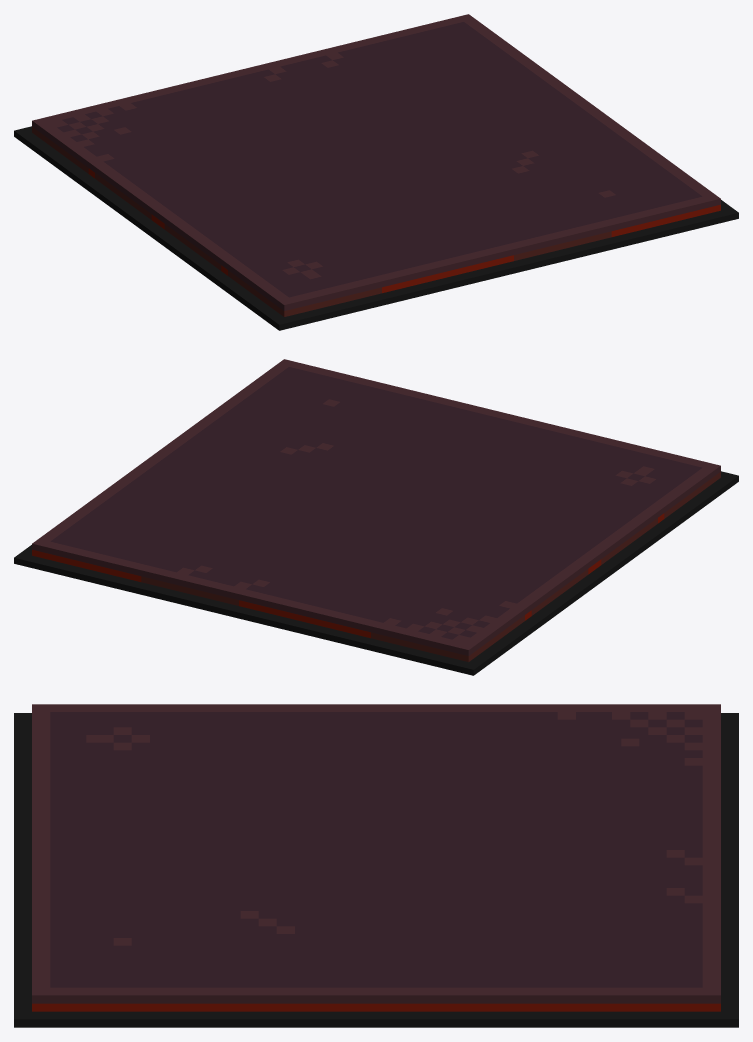
Rendered from bigTile.obj.
3 views of the same model, one above another, from view 1: azimuth 30°, elevation 25°; view 2: azimuth 150°, elevation 25°; view 3: azimuth 270°, elevation 25° (orthographic). The views are drawn at different scales.
Size of the model in its own units: 8 by 0.3 by 8.
